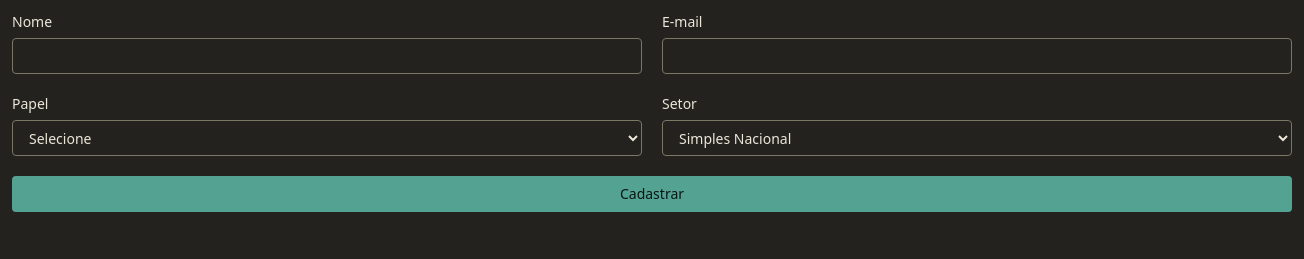
Test: CriarUsuarioContainer › submete o formulário preenchido e mostra a senha provisória devolvida pelo caso de uso
The image size is (1304, 259).
Type "Jéssica Souza" into the field labelled "Nome".
click(327, 56); type("Jéssica Souza")  # box [12,38,642,74]
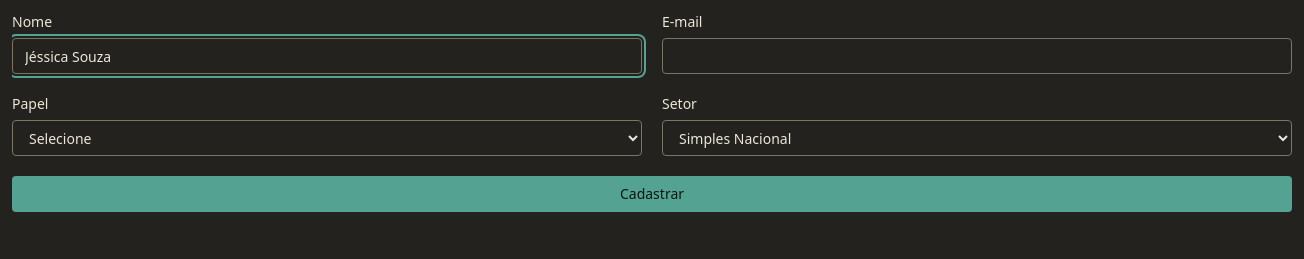
Type "jessica@rigonicontabil.local" into the field labelled "E-mail".
click(977, 56); type("jessica@rigonicontabil.local")  # box [662,38,1292,74]
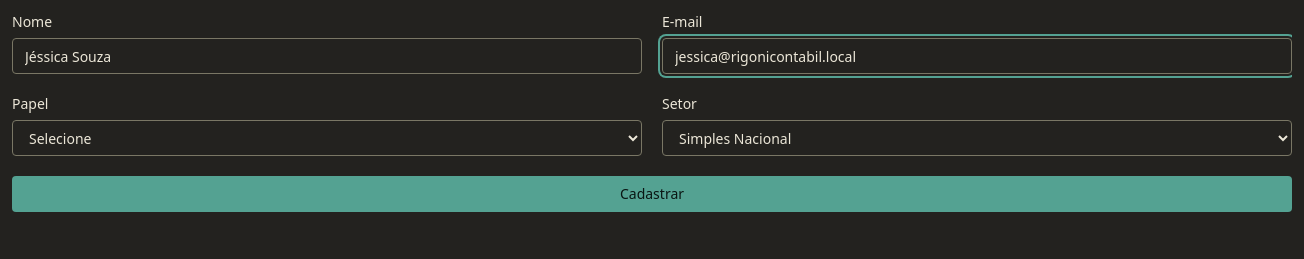
Select "Funcionário" in the dropdown labelled "Papel" at [327, 138], box [12,120,642,156]
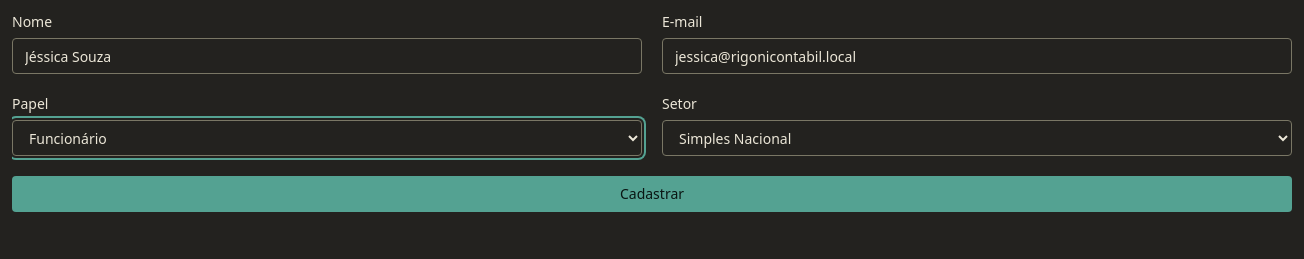
Select "Simples Nacional" in the dropdown labelled "Setor" at [977, 138], box [662,120,1292,156]
Click the button "Cadastrar".
click(652, 194)  # box [12,176,1292,212]
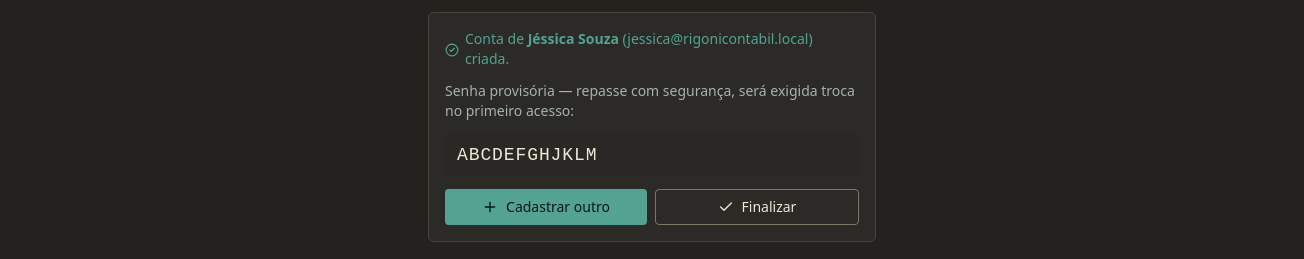
Result: the text "ABCDEFGHJKLM" is shown at [445,133,859,177]
